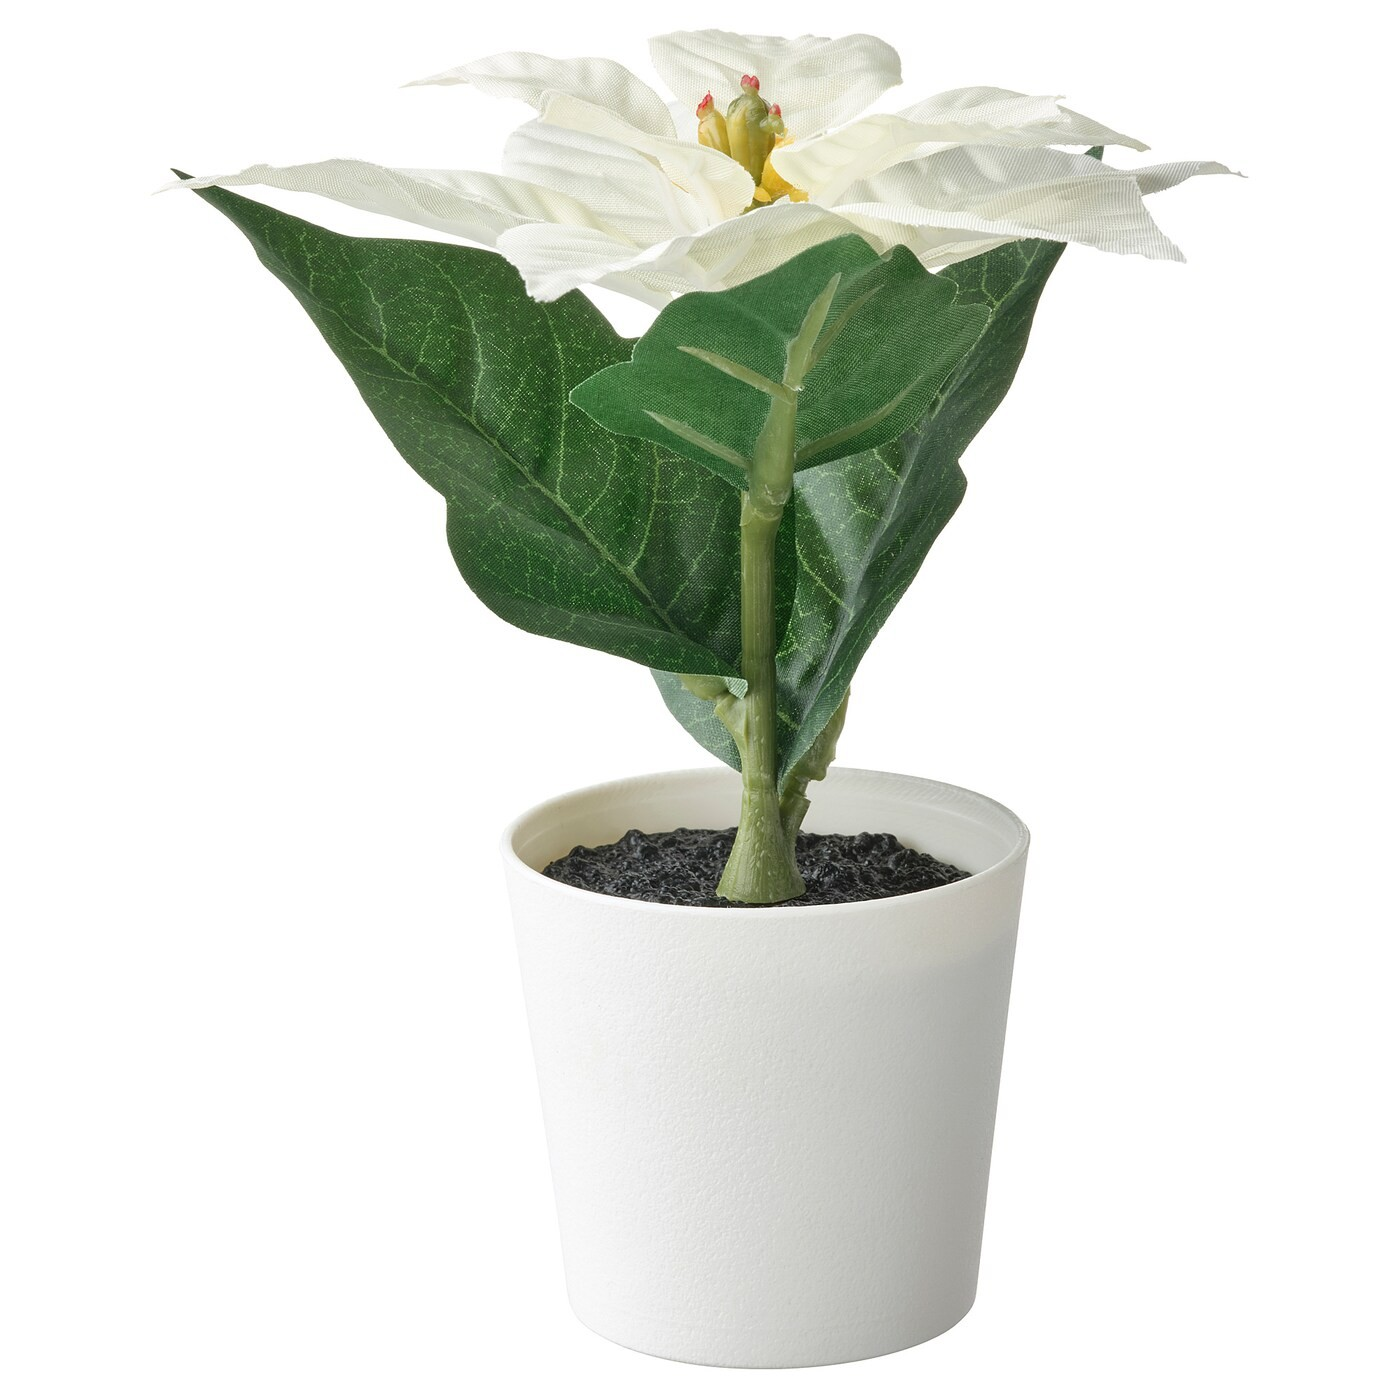tanaman: (246, 26, 1097, 1356)
